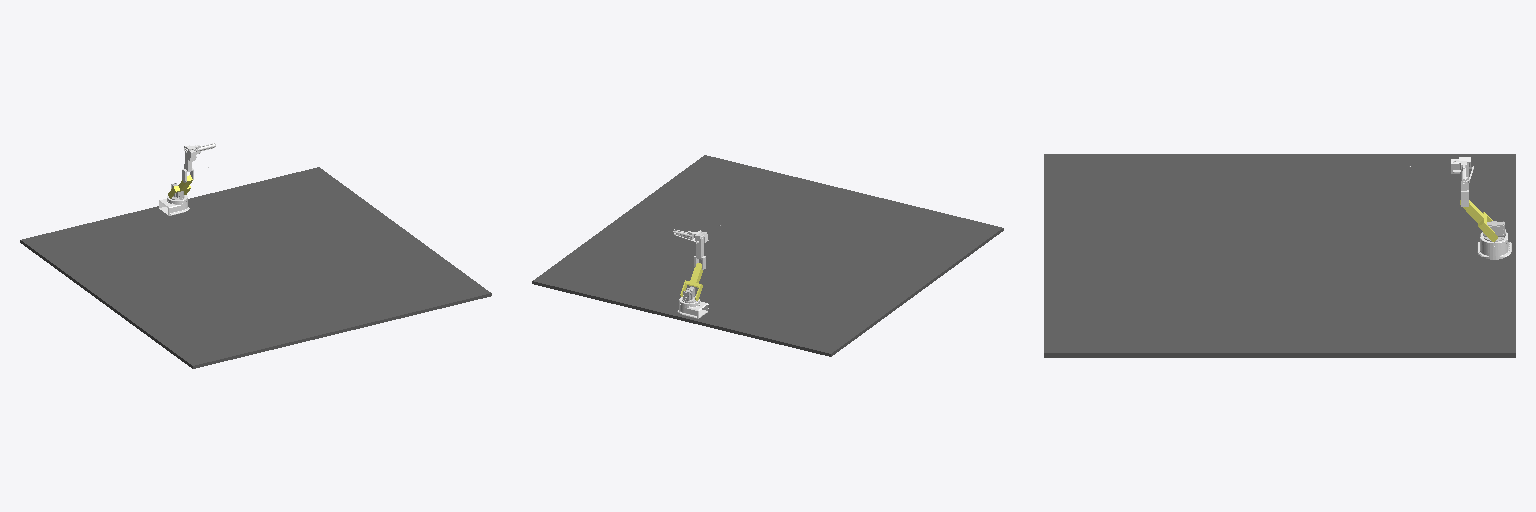
robot.urdf — Robot Assembly.SLDASM:
<?xml version="1.0" encoding="utf-8"?>
<!-- This URDF was automatically created by SolidWorks to URDF Exporter! Originally created by [author] ([email redacted]) 
     Commit Version: 1.6.0-4-g7f85cfe  Build Version: 1.6.7995.38578
     For more information, please see http://wiki.ros.org/sw_urdf_exporter -->
<robot
  name="Robot Assembly.SLDASM">
  <link
    name="base_link">
    <inertial>
      <origin
        xyz="1.8682E-10 0.009705 0.024833"
        rpy="0 0 0" />
      <mass
        value="0.70117" />
      <inertia
        ixx="0.0014339"
        ixy="-4.486E-11"
        ixz="-5.7926E-11"
        iyy="0.0011174"
        iyz="2.2742E-05"
        izz="0.002074" />
    </inertial>
    <visual>
      <origin
        xyz="0 0 0"
        rpy="0 0 0" />
      <geometry>
        <mesh
          filename="package://me557_pen_description/meshes/base_link.STL" />
      </geometry>
      <material
        name="">
        <color
          rgba="1 1 1 1" />
      </material>
    </visual>
    <collision>
      <origin
        xyz="0 0 0"
        rpy="0 0 0" />
      <geometry>
        <mesh
          filename="package://me557_pen_description/meshes/base_link.STL" />
      </geometry>
    </collision>
  </link>
  <link
    name="floor">
    <visual>
      <origin
        xyz="0 0 0"
        rpy="0 0 0" />
      <geometry>
        <box size="2.0 2.0 0.02" />
      </geometry>
      <material
        name="floor_gray">
        <color
          rgba="0.45 0.45 0.45 1" />
      </material>
    </visual>
    <collision>
      <origin
        xyz="0 0 0"
        rpy="0 0 0" />
      <geometry>
        <box size="2.0 2.0 0.02" />
      </geometry>
    </collision>
  </link>
  <joint
    name="base_to_floor"
    type="fixed">
    <origin
      xyz="0 -0.91 -0.01"
      rpy="0 0 0" />
    <parent
      link="base_link" />
    <child
      link="floor" />
  </joint>
  <link
    name="Link1">
    <inertial>
      <origin
        xyz="-4.1458E-11 1.3953E-08 0.048592"
        rpy="0 0 0" />
      <mass
        value="0.25963" />
      <inertia
        ixx="0.00012884"
        ixy="-7.389E-08"
        ixz="-7.0214E-12"
        iyy="0.00013537"
        iyz="-1.3274E-11"
        izz="0.00012613" />
    </inertial>
    <visual>
      <origin
        xyz="0 0 0"
        rpy="0 0 0" />
      <geometry>
        <mesh
          filename="package://me557_pen_description/meshes/Link1.STL" />
      </geometry>
      <material
        name="">
        <color
          rgba="0.89412 0.89412 0.89412 1" />
      </material>
    </visual>
    <collision>
      <origin
        xyz="0 0 0"
        rpy="0 0 0" />
      <geometry>
        <mesh
          filename="package://me557_pen_description/meshes/Link1.STL" />
      </geometry>
    </collision>
  </link>
  <joint
    name="Motor1_joint"
    type="revolute">
    <origin
      xyz="0 0 0.0507"
      rpy="0 0 0" />
    <parent
      link="base_link" />
    <child
      link="Link1" />
    <axis
      xyz="0 0 1" />
    <limit
      lower="-1.0472"
      upper="0.6981"
      effort="1.5"
      velocity="6.18" />
  </joint>
  <link
    name="Link2_L">
    <inertial>
      <origin
        xyz="-0.051943 -0.075549 0.087076"
        rpy="0 0 0" />
      <mass
        value="0.11526" />
      <inertia
        ixx="7.5846E-05"
        ixy="-5.683E-07"
        ixz="-4.4672E-07"
        iyy="0.00013596"
        iyz="2.9075E-05"
        izz="0.00012721" />
    </inertial>
    <visual>
      <origin
        xyz="0 0 0"
        rpy="0 0 0" />
      <geometry>
        <mesh
          filename="package://me557_pen_description/meshes/Link2_L.STL" />
      </geometry>
      <material
        name="">
        <color
          rgba="1 1 0.50196 1" />
      </material>
    </visual>
    <collision>
      <origin
        xyz="0 0 0"
        rpy="0 0 0" />
      <geometry>
        <mesh
          filename="package://me557_pen_description/meshes/Link2_L.STL" />
      </geometry>
    </collision>
  </link>
  <joint
    name="Motor2_L"
    type="revolute">
    <origin
      xyz="0.052457 0.00059405 0.0483"
      rpy="0 0 0" />
    <parent
      link="Link1" />
    <child
      link="Link2_L" />
    <axis
      xyz="0.99994 0.011324 0" />
    <limit
      lower="0"
      upper="6.283"
      effort="6"
      velocity="6.6" />
  </joint>
  <link
    name="Link4">
    <inertial>
      <origin
        xyz="0.021156 -6.0826E-05 0.10428"
        rpy="0 0 0" />
      <mass
        value="0.10865" />
      <inertia
        ixx="6.7094E-05"
        ixy="-4.18E-07"
        ixz="-6.4328E-07"
        iyy="7.5511E-05"
        iyz="2.2666E-07"
        izz="3.8222E-05" />
    </inertial>
    <visual>
      <origin
        xyz="0 0 0"
        rpy="0 0 0" />
      <geometry>
        <mesh
          filename="package://me557_pen_description/meshes/Link4.STL" />
      </geometry>
      <material
        name="">
        <color
          rgba="1 1 1 1" />
      </material>
    </visual>
    <collision>
      <origin
        xyz="0 0 0"
        rpy="0 0 0" />
      <geometry>
        <mesh
          filename="package://me557_pen_description/meshes/Link4.STL" />
      </geometry>
    </collision>
  </link>
  <joint
    name="Motor4_elb"
    type="revolute">
    <origin
      xyz="-0.072748 -0.12514 0.1444"
      rpy="0 0 0" />
    <parent
      link="Link2_L" />
    <child
      link="Link4" />
    <axis
      xyz="-0.99994 -0.011324 0" />
    <limit
      lower="-2.4435"
      upper="1.0472"
      effort="1.5"
      velocity="6.18" />
  </joint>
  <link
    name="Link5">
    <inertial>
      <origin
        xyz="-0.0013002 -0.013978 -0.01034"
        rpy="0 0 0" />
      <mass
        value="0.052656" />
      <inertia
        ixx="1.6759E-05"
        ixy="-2.819E-07"
        ixz="-7.7036E-07"
        iyy="1.5947E-05"
        iyz="-1.7053E-06"
        izz="1.1111E-05" />
    </inertial>
    <visual>
      <origin
        xyz="0 0 0"
        rpy="0 0 0" />
      <geometry>
        <mesh
          filename="package://me557_pen_description/meshes/Link5.STL" />
      </geometry>
      <material
        name="">
        <color
          rgba="1 1 1 1" />
      </material>
    </visual>
    <collision>
      <origin
        xyz="0 0 0"
        rpy="0 0 0" />
      <geometry>
        <mesh
          filename="package://me557_pen_description/meshes/Link5.STL" />
      </geometry>
    </collision>
  </link>
  <joint
    name="Motor5_wr"
    type="revolute">
    <origin
      xyz="0.02195 -0.021925 0.17994"
      rpy="0 0 0" />
    <parent
      link="Link4" />
    <child
      link="Link5" />
    <axis
      xyz="0.011324 -0.99993 -0.0028474" />
    <limit
      lower="-1.3963"
      upper="1.3963"
      effort="1.5"
      velocity="6.18" />
  </joint>
  <link
    name="Link6">
    <inertial>
      <origin
        xyz="-0.020588 -0.086108 -0.0028114"
        rpy="0 0 0" />
      <mass
        value="0.05213" />
      <inertia
        ixx="3.8229E-05"
        ixy="-7.0856E-07"
        ixz="9.8884E-07"
        iyy="8.518E-06"
        iyz="-2.4648E-06"
        izz="4.404E-05" />
    </inertial>
    <visual>
      <origin
        xyz="0 0 0"
        rpy="0 0 0" />
      <geometry>
        <mesh
          filename="package://me557_pen_description/meshes/Link6.STL" />
      </geometry>
      <material
        name="">
        <color
          rgba="1 1 1 1" />
      </material>
    </visual>
    <collision>
      <origin
        xyz="0 0 0"
        rpy="0 0 0" />
      <geometry>
        <mesh
          filename="package://me557_pen_description/meshes/Link6.STL" />
      </geometry>
    </collision>
  </link>
  <joint
    name="Joint_EE"
    type="revolute">
    <origin
      xyz="0.021626 -0.020046 -0.00367"
      rpy="0 0 0" />
    <parent
      link="Link5" />
    <child
      link="Link6" />
    <axis
      xyz="0.98598 0.01164 -0.16646" />
    <limit
      lower="-0.6981"
      upper="2.0944"
      effort="1.5"
      velocity="6.18" />
  </joint>
  <link
    name="Pen_tip">
    <inertial>
      <origin
        xyz="-0.0015437 0.24747 -0.28672"
        rpy="0 0 0" />
      <mass
        value="5.5098" />
      <inertia
        ixx="0.21583"
        ixy="0.00015166"
        ixz="-0.00045441"
        iyy="0.10918"
        iyz="0.049251"
        izz="0.15359" />
    </inertial>
    <visual>
      <origin
        xyz="0 0 0"
        rpy="0 0 0" />
      <geometry>
        <sphere radius="0.004" />
      </geometry>
      <material
        name="">
        <color
          rgba="1 1 1 1" />
      </material>
    </visual>
    <collision>
      <origin
        xyz="0 0 0"
        rpy="0 0 0" />
      <geometry>
        <sphere radius="0.004" />
      </geometry>
    </collision>
  </link>
  <joint
    name="Pen_tip"
    type="fixed">
    <origin
      xyz="-0.021396 -0.18979 -0.0096416"
      rpy="0 0 0" />
    <parent
      link="Link6" />
    <child
      link="Pen_tip" />
    <axis
      xyz="0 0 0" />
  </joint>
  <link
    name="Link3_R">
    <inertial>
      <origin
        xyz="0.052802 -0.10824 0.024307"
        rpy="0 0 0" />
      <mass
        value="5.5098" />
      <inertia
        ixx="0.21583"
        ixy="0.00015166"
        ixz="-0.00045441"
        iyy="0.10918"
        iyz="0.049251"
        izz="0.15359" />
    </inertial>
  </link>
  <joint
    name="Motor3_R"
    type="revolute">
    <origin
      xyz="-0.052457 -0.00059406 0.0483"
      rpy="0 0 0" />
    <parent
      link="Link1" />
    <child
      link="Link3_R" />
    <axis
      xyz="-0.99994 -0.011324 0" />
    <limit
      lower="-1.0472"
      upper="1.0472"
      effort="6"
      velocity="6.6" />
    <mimic
      joint="Motor2_L"
      multiplier="-1"
      offset="0" />
  </joint>
</robot>

--- Facts derived from the render (not from the file) ---
The picture shows the robot from 3 angles, left to right: view 1: azimuth 30°, elevation 25°; view 2: azimuth 150°, elevation 25°; view 3: azimuth 270°, elevation 25°; orthographic projection.
Model Robot Assembly.SLDASM with 9 links and 8 joints (6 revolute, 2 fixed), rooted at base_link, posed every joint at zero.
Links seen in each view (by area): view 1: floor; view 2: floor; view 3: floor, base_link.
Link boxes in pixels (x1=…): floor: x1=20, y1=167, x2=491, y2=368; floor: x1=532, y1=155, x2=1003, y2=356; floor: x1=1044, y1=154, x2=1515, y2=357; base_link: x1=1477, y1=233, x2=1511, y2=259.
Size in the robot's own frame: 2 by 2 by 0.4683 metres.
Meshes: 6 distinct files referenced, 6 mesh visuals loaded (6 binary STL).